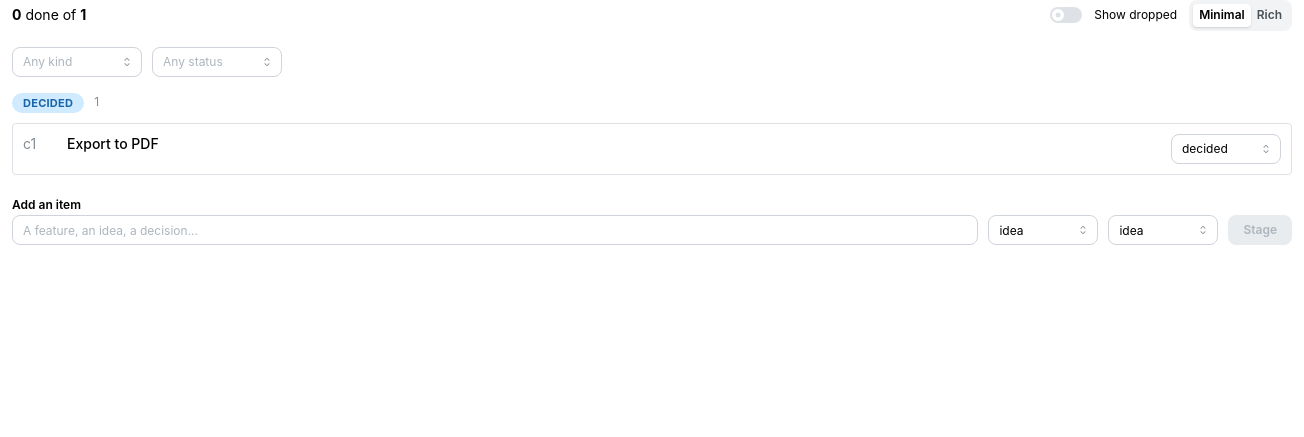
Checklist › shows a minimal list that hides dropped items, and rich details on the switch
Expected: the text "Export to PDF" is shown, [67, 134, 159, 154]
Expected: the text "Old idea" is not shown
What coordinates should you click on to do the following:
click the text "Rich"
I would click on:
 (1269, 14)
Its box is [1257, 7, 1282, 22].
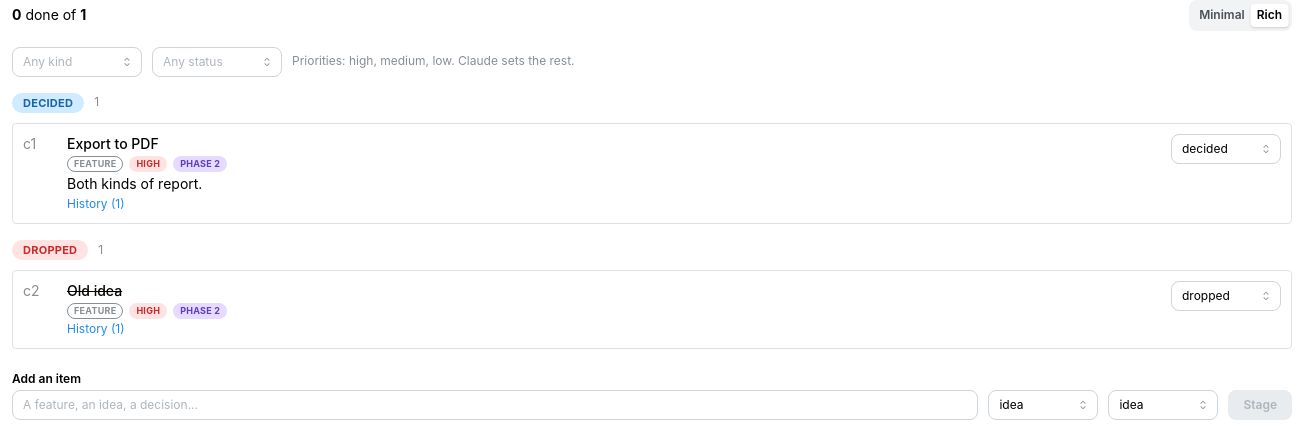
Now the text "Both kinds of report." is shown, box [67, 175, 202, 192]
Now the text "Old idea" is shown, box [67, 282, 122, 299]
